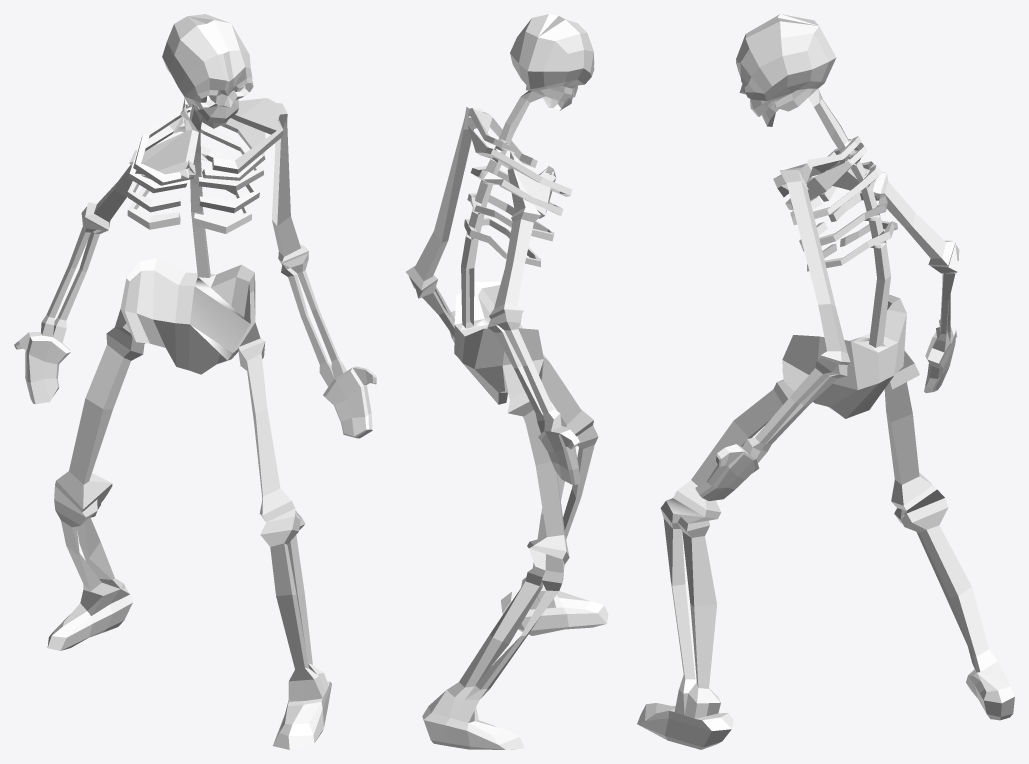
The model's file is SkeletonIdle(104).obj.
The picture shows the model from 3 angles, left to right: view 1: azimuth 30°, elevation 25°; view 2: azimuth 150°, elevation 25°; view 3: azimuth 270°, elevation 25°; orthographic projection. The views are drawn at different scales.
Parts seen in each view (by area): view 1: Object002; view 2: Object002; view 3: Object002.
Boxes of the visible parts, left/top/right/bottom form: Object002: left=14, top=14, right=376, bottom=749; Object002: left=406, top=14, right=608, bottom=749; Object002: left=637, top=14, right=1014, bottom=749.
Bounding box in the file's own units: 426 × 1124 × 554.
